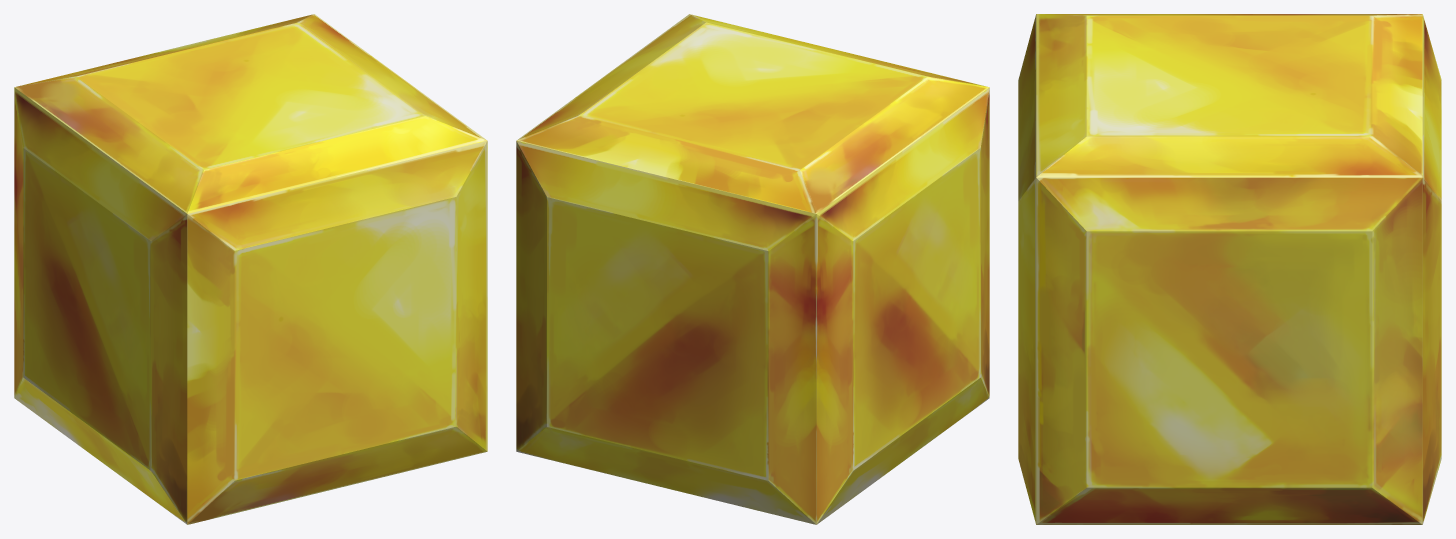
Rendered from Yellow.FBX.
3 views of the same model, side by side, from view 1: azimuth 30°, elevation 25°; view 2: azimuth 150°, elevation 25°; view 3: azimuth 270°, elevation 25° (orthographic). The views are drawn at different scales.
Parts seen in each view (by area): view 1: Box055; view 2: Box055; view 3: Box055.
Boxes of the visible parts, x1=… form: Box055: x1=14, y1=14, x2=487, y2=524; Box055: x1=516, y1=14, x2=989, y2=524; Box055: x1=1018, y1=14, x2=1441, y2=524.
Bounding box in the file's own units: 0.997 × 0.9956 × 0.996.
1 material, 1 textured.
